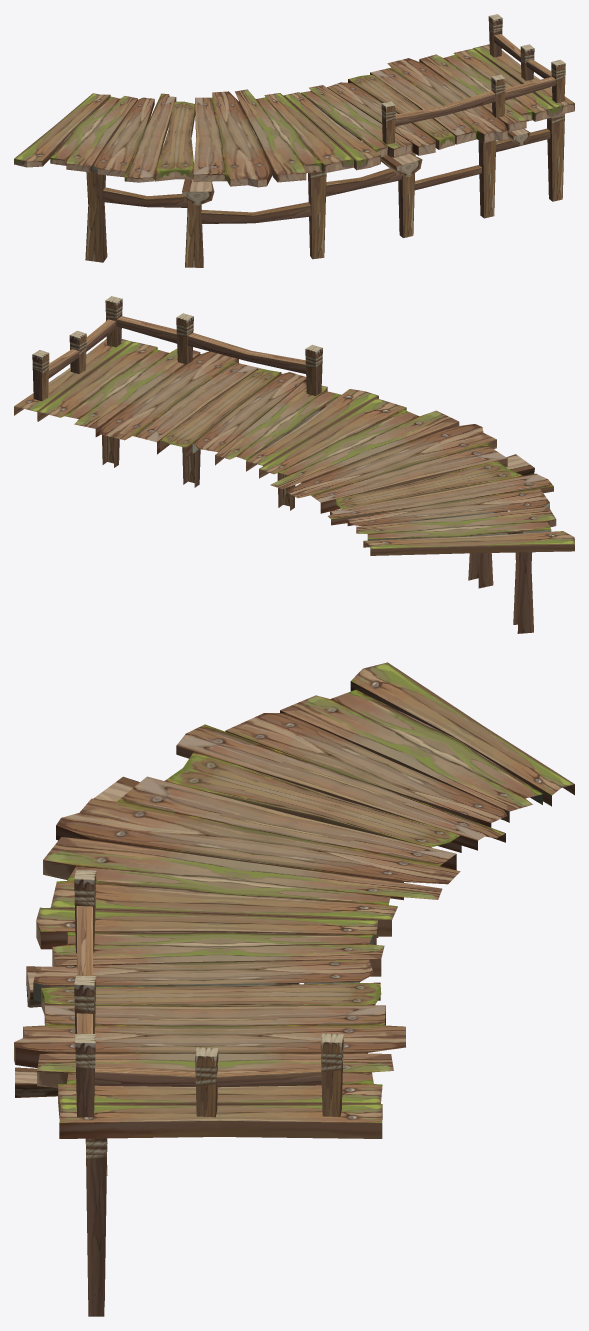
Rendered from Map_05_bridge07.FBX.
The picture shows the model from 3 angles, top to bottom: view 1: azimuth 30°, elevation 25°; view 2: azimuth 150°, elevation 25°; view 3: azimuth 270°, elevation 25°; orthographic projection. The views are drawn at different scales.
Parts seen in each view (by area): view 1: Map_05_bridge07; view 2: Map_05_bridge07; view 3: Map_05_bridge07.
Boxes of the visible parts, x1=… form: Map_05_bridge07: x1=14, y1=14, x2=574, y2=267; Map_05_bridge07: x1=14, y1=296, x2=574, y2=633; Map_05_bridge07: x1=14, y1=662, x2=574, y2=1316.
Bounding box in the file's own units: 1007 × 280 × 519.
